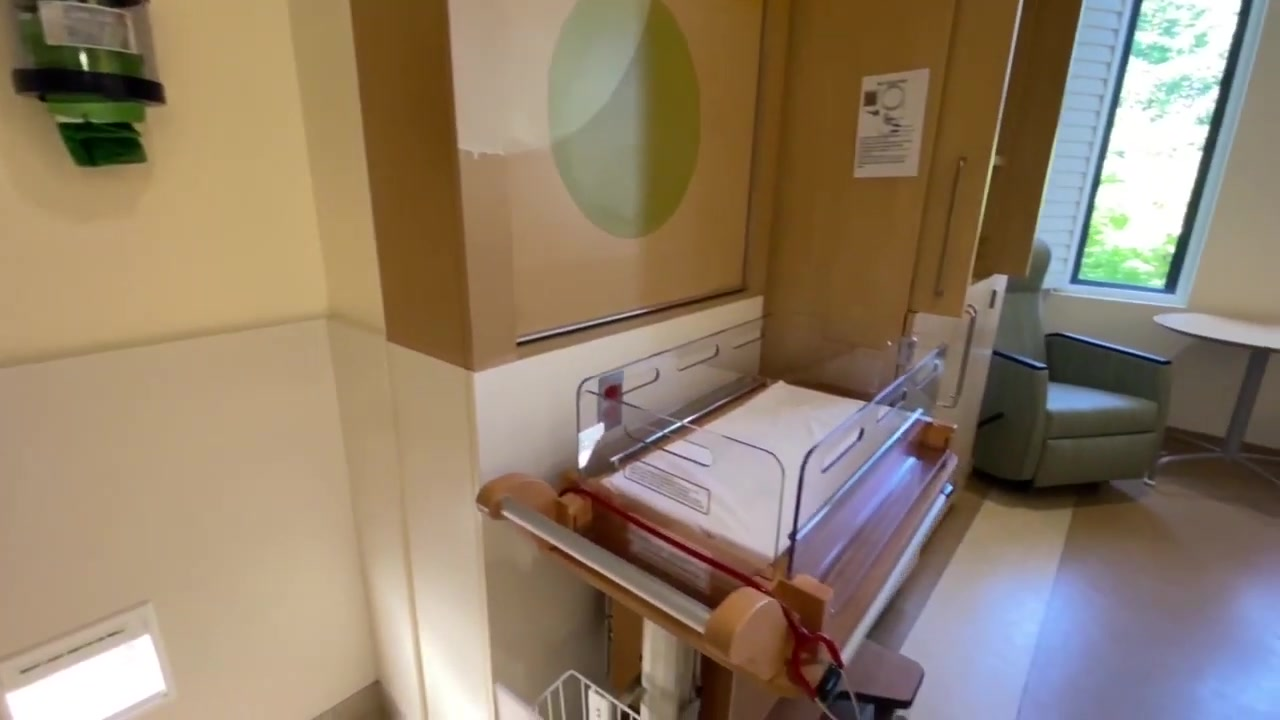handle: (933, 153, 969, 297), (940, 303, 979, 412)
sofa: (972, 238, 1173, 490)
table: (1145, 310, 1280, 501)
